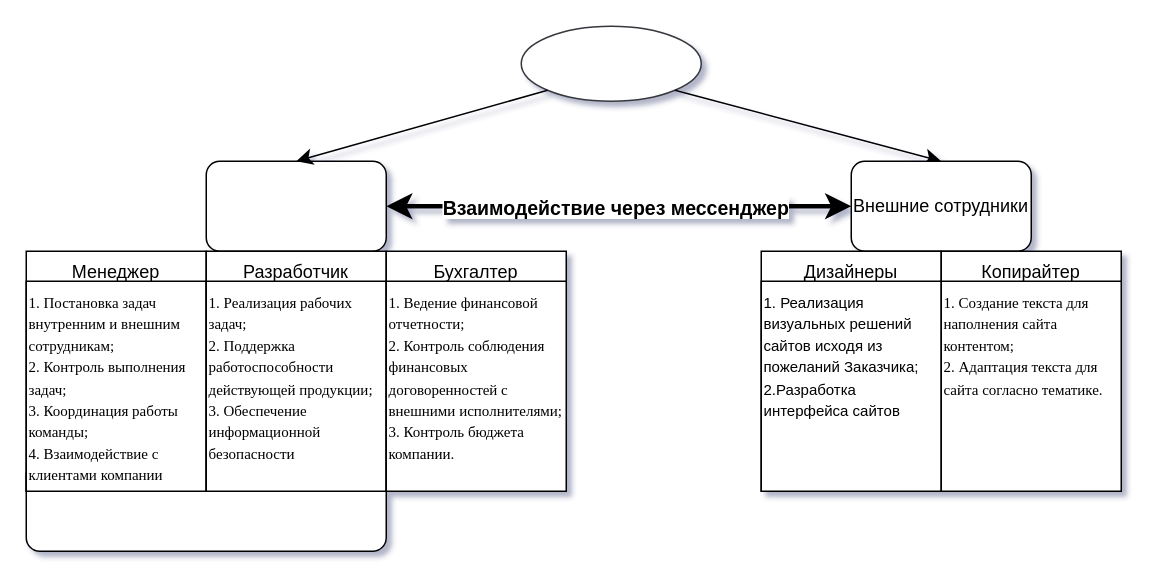
Image size: 1157x587. Some labels were removed from this diagram. The centre of each missing label's shape, as x and y in pixels:
"CRM-система" belongs at point (205, 505).
"WebStyle" belongs at point (610, 63).
"Внутренние сотрудники" belongs at point (295, 205).
